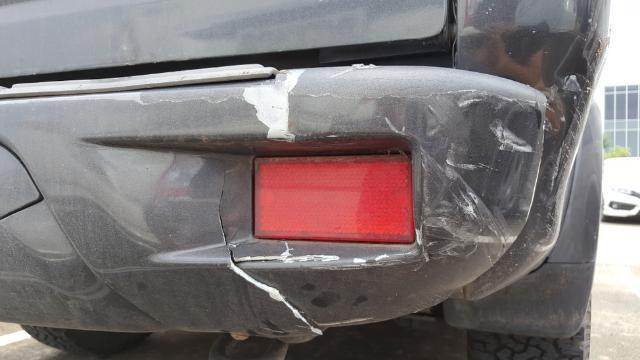Bumper: (141, 60, 597, 338)
